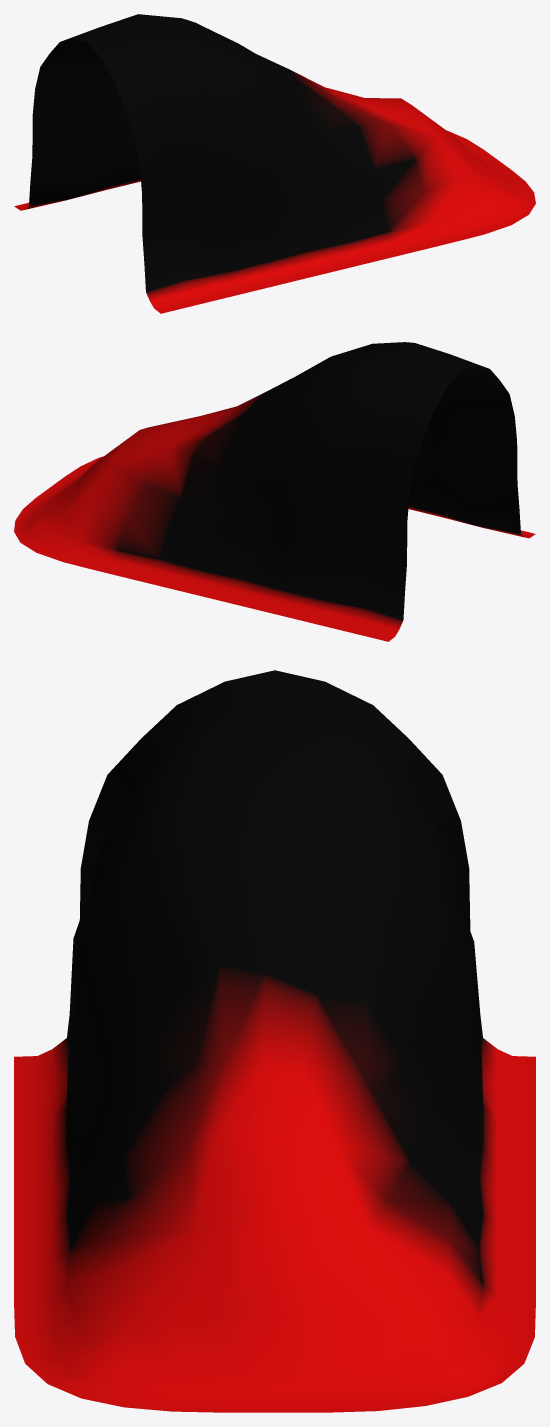
File: GroundObject04D.fbx
3 renders of one model, top to bottom at view 1: azimuth 30°, elevation 25°; view 2: azimuth 150°, elevation 25°; view 3: azimuth 270°, elevation 25°, orthographic. The views are drawn at different scales.
Visible parts, largest first — view 1: GroundObject04D; view 2: GroundObject04D; view 3: GroundObject04D.
Part boxes in pixels (bbox=[...]): GroundObject04D: bbox=[14, 14, 535, 313]; GroundObject04D: bbox=[14, 342, 535, 641]; GroundObject04D: bbox=[14, 670, 535, 1412].
Bounding box in the file's own units: 2.02 × 1.02 × 1.25.
